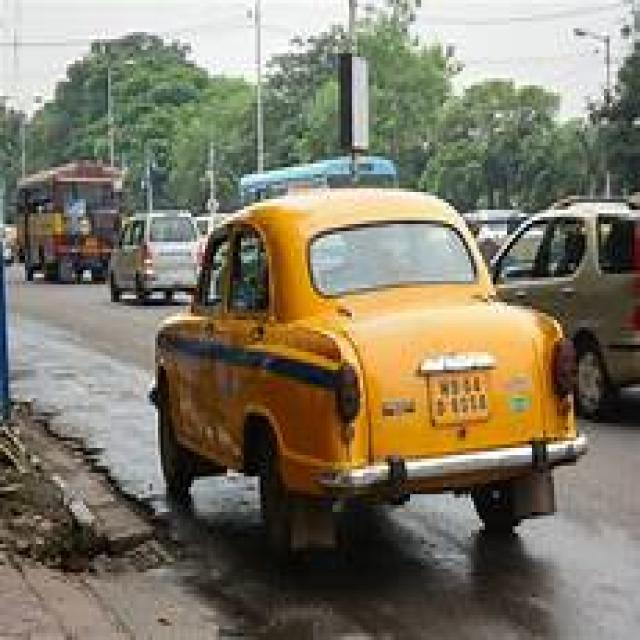Bus: (17, 162, 121, 282), (240, 161, 353, 201), (355, 160, 395, 185)
Car: (112, 189, 640, 557)
